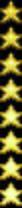star: (0, 181, 22, 208), (0, 76, 22, 103), (0, 154, 22, 180), (0, 50, 22, 76), (0, 24, 22, 50), (0, 103, 22, 128), (0, 0, 22, 25), (0, 130, 22, 154)
